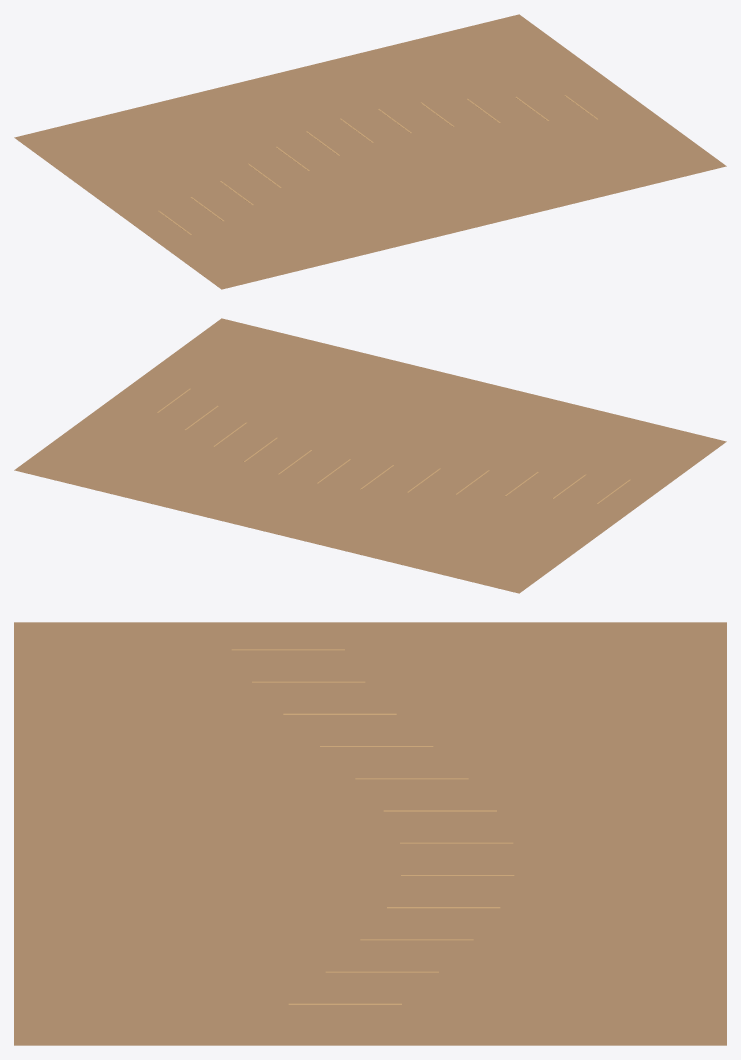
The model's file is 252_L119_L3_LayerReference.glb.
3 views of the same model, one above another, from view 1: azimuth 30°, elevation 25°; view 2: azimuth 150°, elevation 25°; view 3: azimuth 270°, elevation 25° (orthographic). The views are drawn at different scales.
Visible parts, largest first — view 1: 0000__PSMAT__copper_dark; view 2: 0000__PSMAT__copper_dark; view 3: 0000__PSMAT__copper_dark.
Boxes of the visible parts, box(x1,y1,x2,y2) form: 0000__PSMAT__copper_dark: box(14, 14, 726, 289); 0000__PSMAT__copper_dark: box(14, 318, 726, 593); 0000__PSMAT__copper_dark: box(14, 622, 726, 1045).
Size of the model in its own units: 0.486 by 0.000202 by 0.346.
